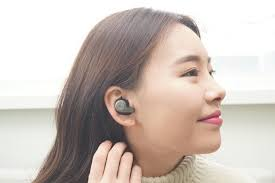earphone: (104, 86, 138, 126)
